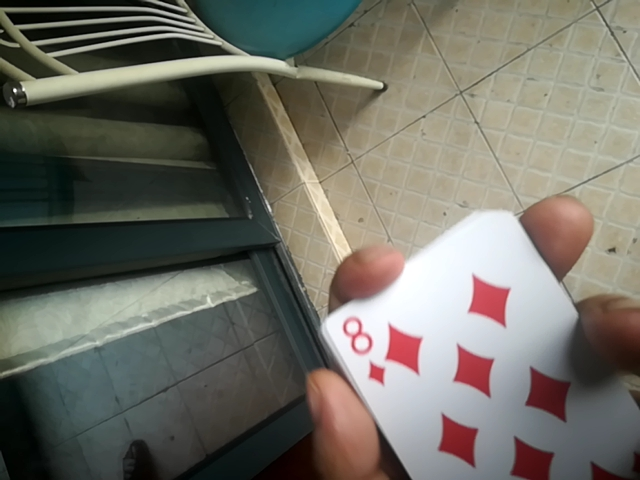fk 8: (319, 211, 635, 480)
